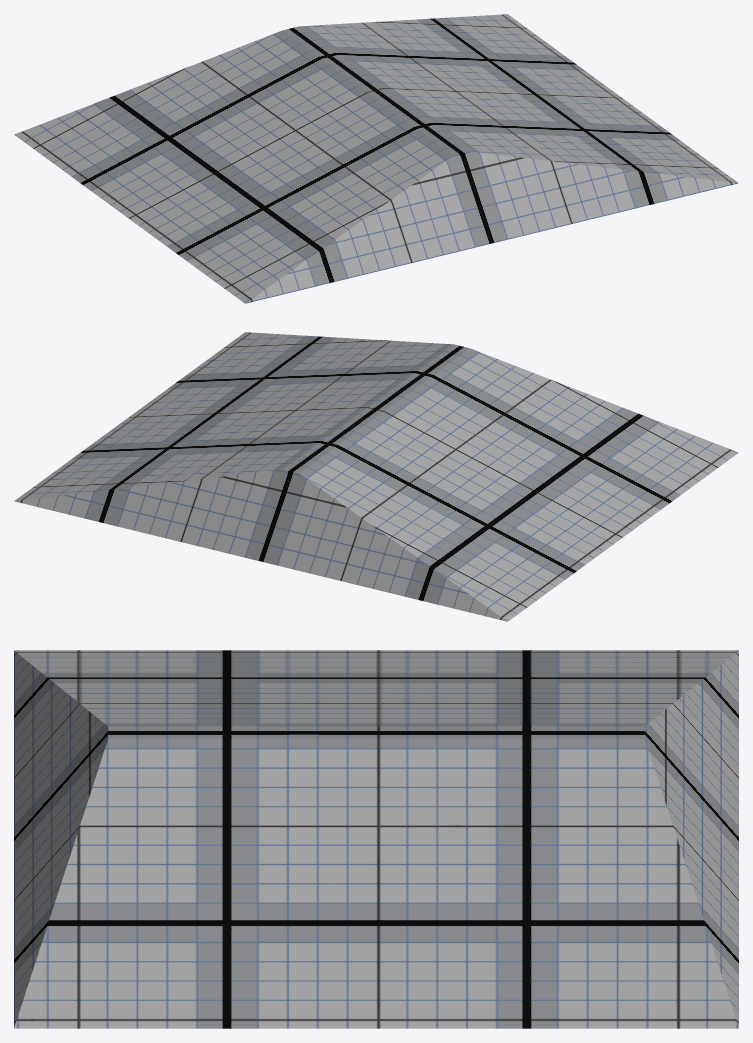
File: gm_bump_02.dae
The picture shows the model from 3 angles, top to bottom: view 1: azimuth 30°, elevation 25°; view 2: azimuth 150°, elevation 25°; view 3: azimuth 270°, elevation 25°; orthographic projection. The views are drawn at different scales.
Parts seen in each view (by area): view 1: ind_bld_c70; view 2: ind_bld_c70; view 3: ind_bld_c70.
Part boxes in pixels (x1,y1,x2,y2): ind_bld_c70: (14,14,738,303); ind_bld_c70: (14,332,738,621); ind_bld_c70: (14,650,738,1028).
Bounding box in the file's own units: 6 × 4.86 × 0.7898.
